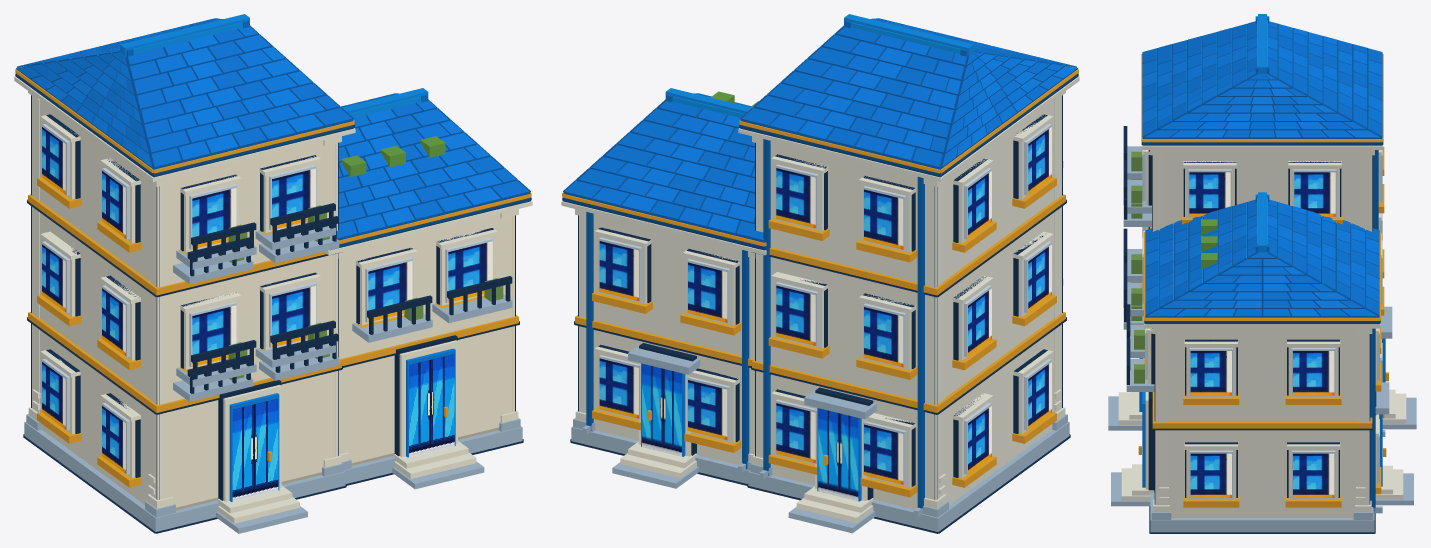
3 renders of one model, left to right at view 1: azimuth 30°, elevation 25°; view 2: azimuth 150°, elevation 25°; view 3: azimuth 270°, elevation 25°, orthographic. The views are drawn at different scales.
Parts seen in each view (by area): view 1: A05 阶梯退台公寓; view 2: A05 阶梯退台公寓; view 3: A05 阶梯退台公寓.
Boxes of the visible parts, box(x1,y1,x2,y2) form: A05 阶梯退台公寓: box(14, 14, 532, 533); A05 阶梯退台公寓: box(561, 14, 1079, 533); A05 阶梯退台公寓: box(1108, 14, 1416, 533).
Size of the model in its own units: 8.38 by 9.03 by 6.71.
Materials: 2 (1 with a texture image).
